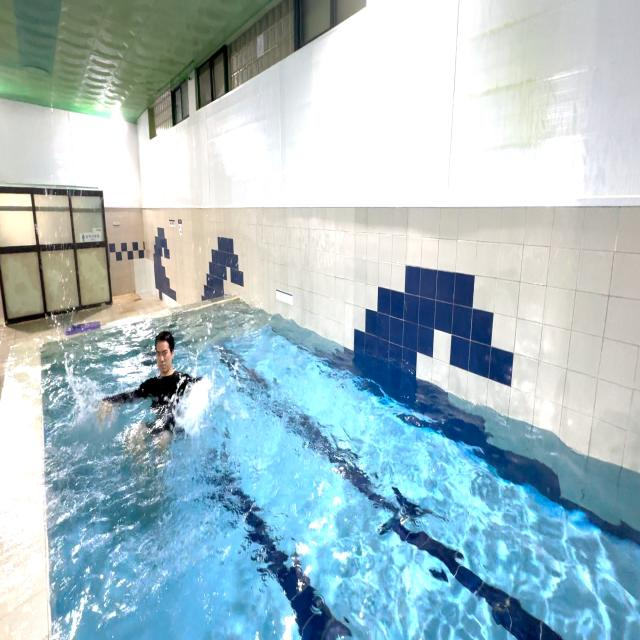Swimming: (111, 328, 219, 437)
